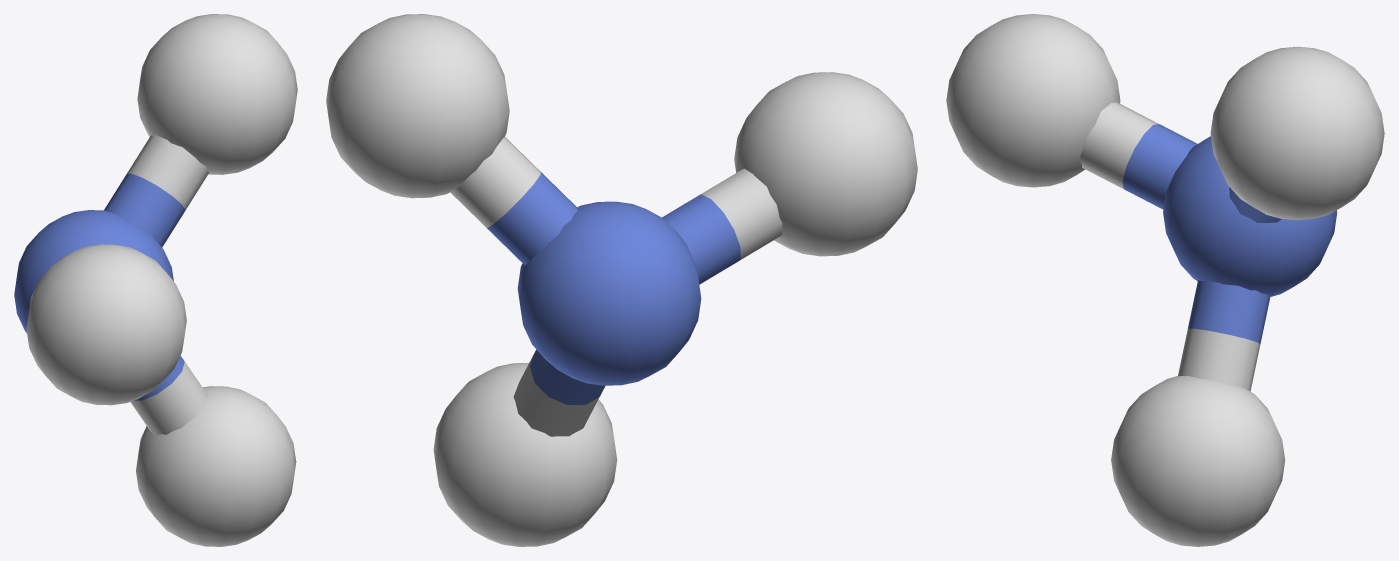
File: ammonia-bas.glb
3 renders of one model, left to right at view 1: azimuth 30°, elevation 25°; view 2: azimuth 150°, elevation 25°; view 3: azimuth 270°, elevation 25°, orthographic. The views are drawn at different scales.
Parts seen in each view (by area): view 1: ammonia-bas; view 2: ammonia-bas; view 3: ammonia-bas.
Part boxes in pixels (left/top/right/bottom): ammonia-bas: left=14, top=14, right=297, bottom=546; ammonia-bas: left=326, top=14, right=917, bottom=546; ammonia-bas: left=946, top=14, right=1384, bottom=546.
Bounding box in the file's own units: 1.87 × 2.26 × 1.76.
